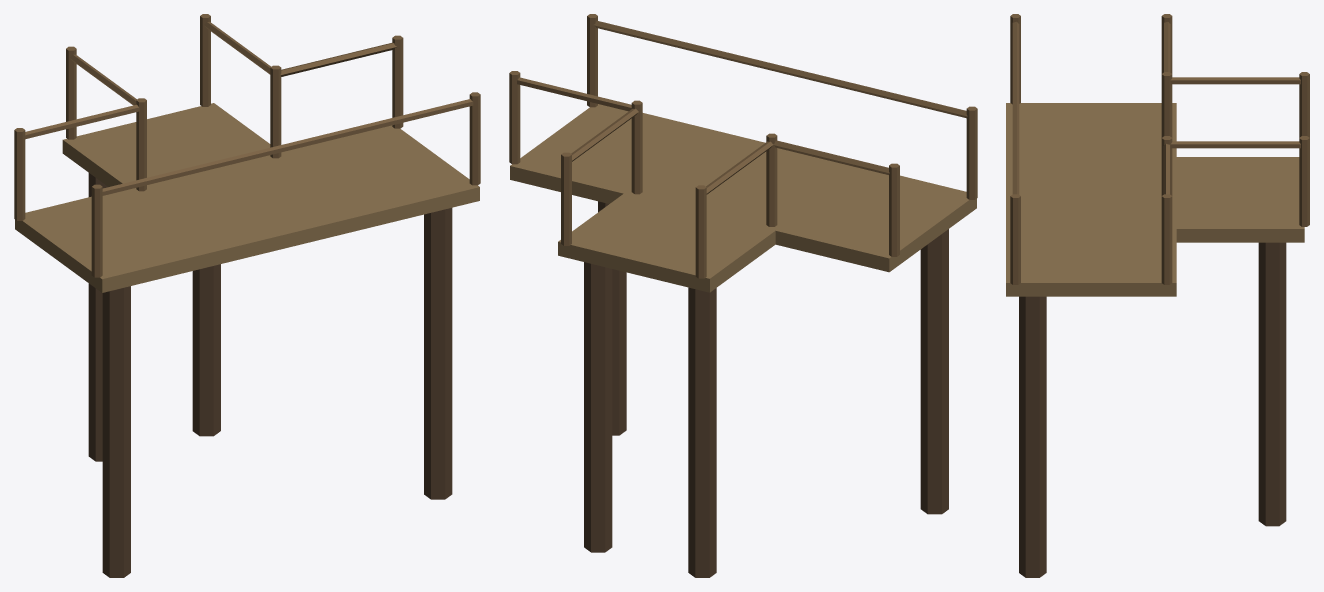
Rendered from K_WalkTee.glb.
The picture shows the model from 3 angles, left to right: view 1: azimuth 30°, elevation 25°; view 2: azimuth 150°, elevation 25°; view 3: azimuth 270°, elevation 25°; orthographic projection. The views are drawn at different scales.
Visible parts, largest first — view 1: K_WalkTee; view 2: K_WalkTee; view 3: K_WalkTee.
Part boxes in pixels (<box>): K_WalkTee: <box>14,14,480,577</box>; K_WalkTee: <box>509,14,977,577</box>; K_WalkTee: <box>1006,14,1309,577</box>.
Size of the model in its own units: 4.09 by 4.04 by 2.85.
